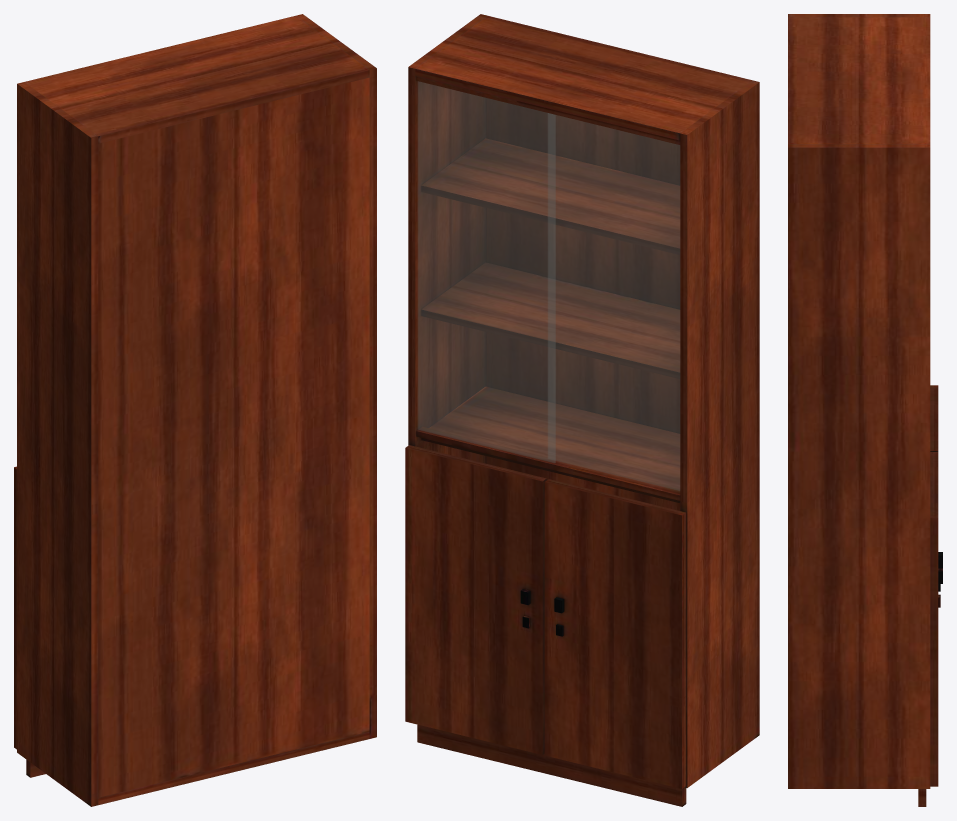
File: bookcase_glass_web.glb
3 views of the same model, side by side, from view 1: azimuth 30°, elevation 25°; view 2: azimuth 150°, elevation 25°; view 3: azimuth 270°, elevation 25° (orthographic). The views are drawn at different scales.
Visible parts, largest first — view 1: BookcaseGlass_Body, Door_R_Mesh; view 2: BookcaseGlass_Body, Glass_A, Glass_B, Door_R_Mesh, Door_L_Mesh; view 3: BookcaseGlass_Body, Door_L_Mesh, Door_R_Mesh.
Part boxes in pixels (x1,y1,x2,y2): BookcaseGlass_Body: (17, 14, 376, 806); Door_R_Mesh: (14, 466, 16, 749); BookcaseGlass_Body: (408, 14, 759, 806); Glass_A: (418, 81, 555, 462); Glass_B: (548, 113, 679, 490); Door_R_Mesh: (544, 479, 686, 788); Door_L_Mesh: (405, 445, 546, 754); BookcaseGlass_Body: (788, 14, 930, 806); Door_L_Mesh: (930, 452, 942, 786); Door_R_Mesh: (930, 385, 942, 591).
Bounding box in the file's own units: 0.8001 × 1.85 × 0.392.
Materials: 2 (1 with a texture image).
